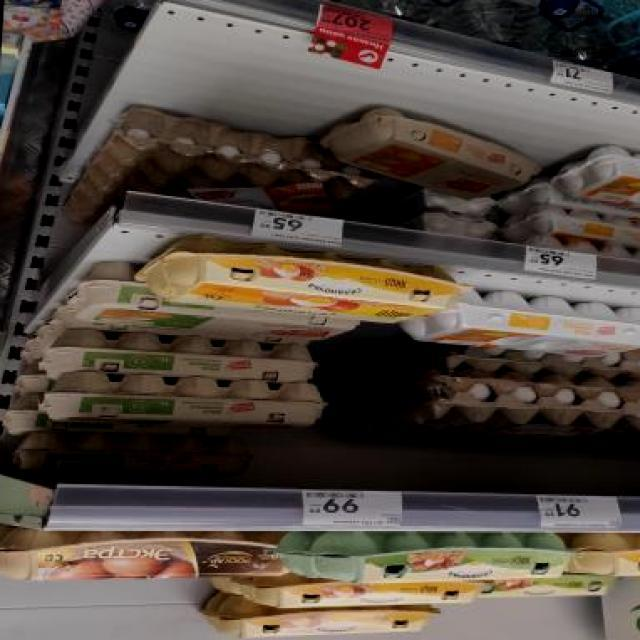egg: (134, 237, 476, 329), (314, 106, 550, 198), (0, 522, 282, 584), (274, 528, 572, 586), (39, 328, 323, 386), (42, 373, 326, 430), (409, 295, 640, 357), (7, 432, 258, 479), (570, 531, 640, 574)
